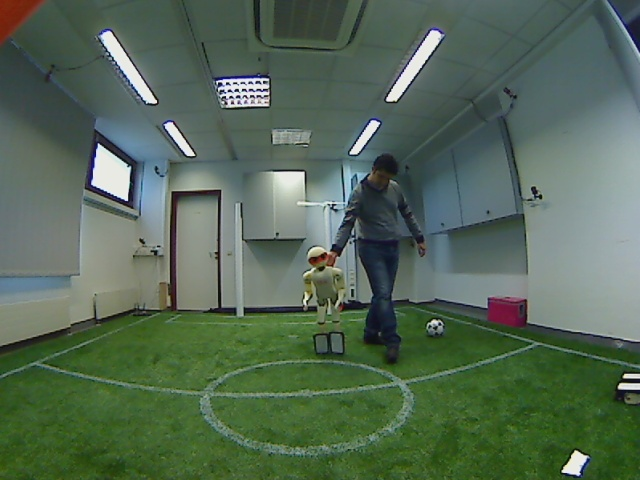ball: (422, 315, 448, 339)
robot: (297, 247, 358, 355)
